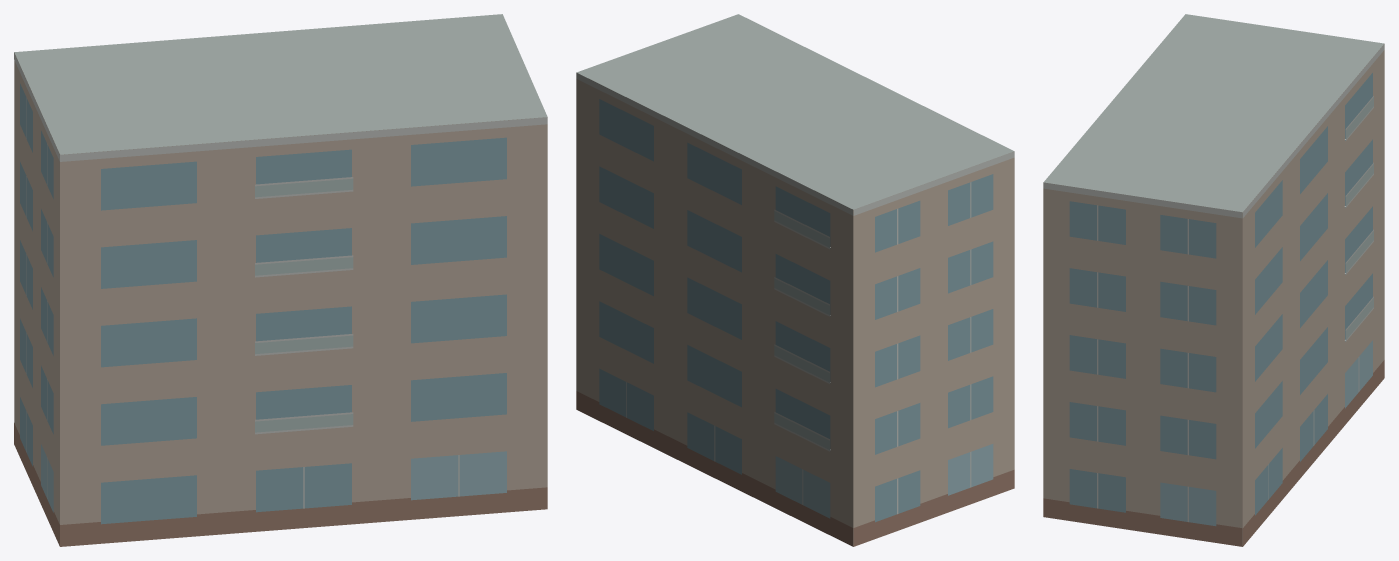
The model's file is survey-upis-32992699.glb.
3 views of the same model, side by side, from view 1: azimuth 30°, elevation 25°; view 2: azimuth 150°, elevation 25°; view 3: azimuth 270°, elevation 25° (orthographic). The views are drawn at different scales.
Visible parts, largest first — view 1: survey-upis-32992699.tmp; view 2: survey-upis-32992699.tmp; view 3: survey-upis-32992699.tmp.
Part boxes in pixels (<box>): survey-upis-32992699.tmp: <box>14,14,547,546</box>; survey-upis-32992699.tmp: <box>576,14,1014,546</box>; survey-upis-32992699.tmp: <box>1043,14,1384,546</box>.
Size of the model in its own units: 16.78 by 13.2 by 12.21.
